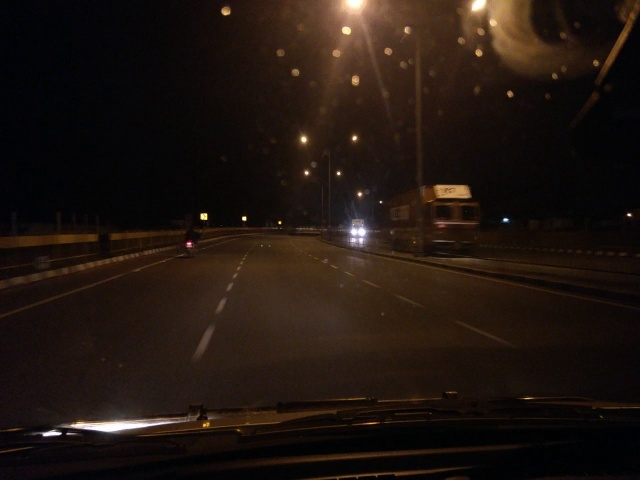motorbike: (172, 219, 206, 257)
truck: (382, 189, 485, 254), (353, 211, 369, 243)
